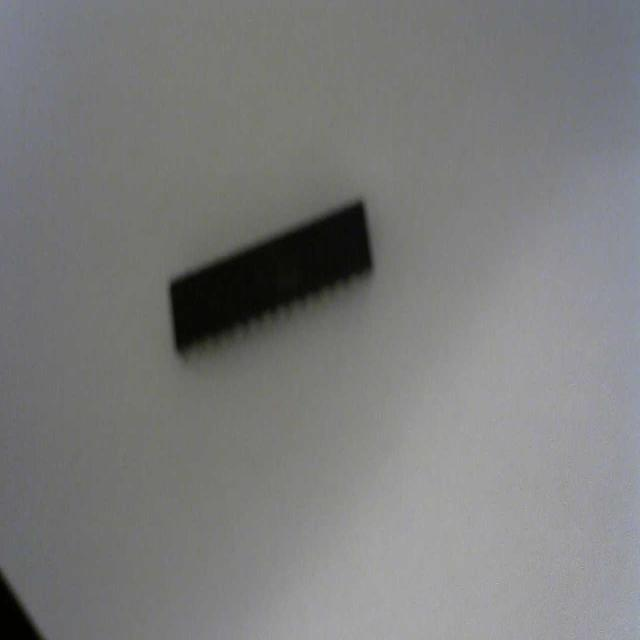atmega: (166, 192, 376, 363)
